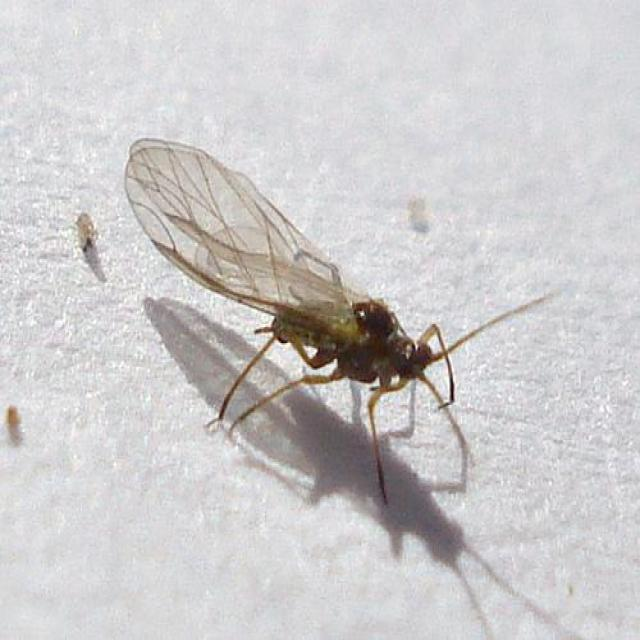Aphids: (105, 106, 548, 544)
